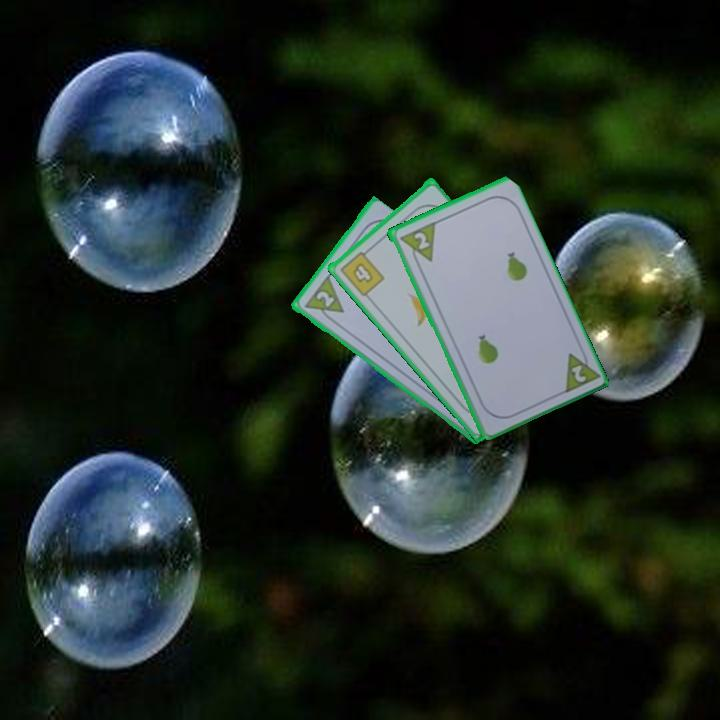2p: (312, 287, 337, 310), (410, 228, 432, 253), (567, 361, 589, 385)
4b: (336, 244, 387, 299)
